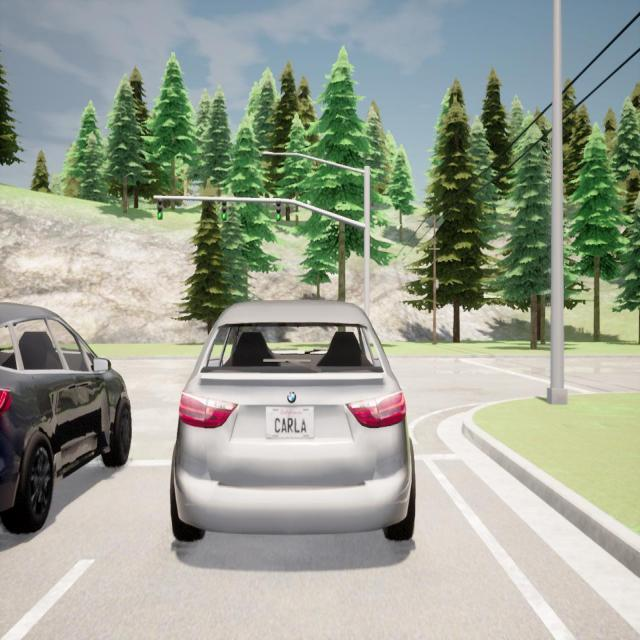Vehicle: (170, 301, 415, 540), (0, 303, 133, 533)
traffic_light: (157, 198, 163, 220), (222, 200, 227, 220), (276, 201, 281, 221)
